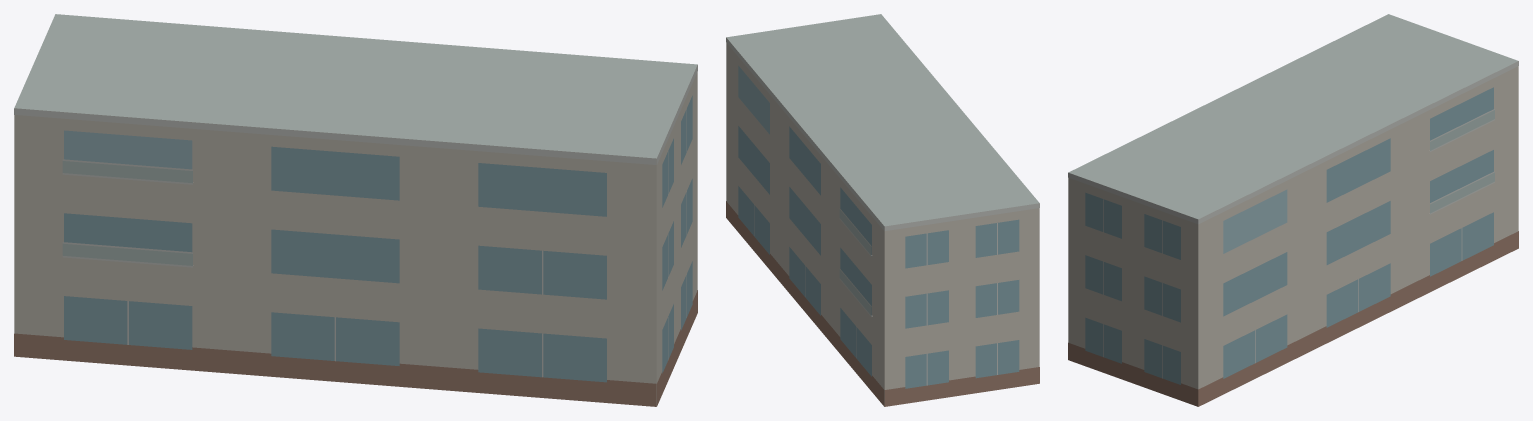
The model's file is residential-1f42fbad-c7f6-48cf-8a27-92304e702c5d.glb.
3 renders of one model, left to right at view 1: azimuth 30°, elevation 25°; view 2: azimuth 150°, elevation 25°; view 3: azimuth 270°, elevation 25°, orthographic. The views are drawn at different scales.
Visible parts, largest first — view 1: residential-1f42fbad-c7f6-48cf-8a27-92304e702c5d.tmp; view 2: residential-1f42fbad-c7f6-48cf-8a27-92304e702c5d.tmp; view 3: residential-1f42fbad-c7f6-48cf-8a27-92304e702c5d.tmp.
Boxes of the visible parts, box(x1,y1,x2,y2) form: residential-1f42fbad-c7f6-48cf-8a27-92304e702c5d.tmp: box(14, 14, 697, 406); residential-1f42fbad-c7f6-48cf-8a27-92304e702c5d.tmp: box(726, 14, 1039, 406); residential-1f42fbad-c7f6-48cf-8a27-92304e702c5d.tmp: box(1068, 14, 1518, 406).
Size of the model in its own units: 21.51 by 9.15 by 19.94.
